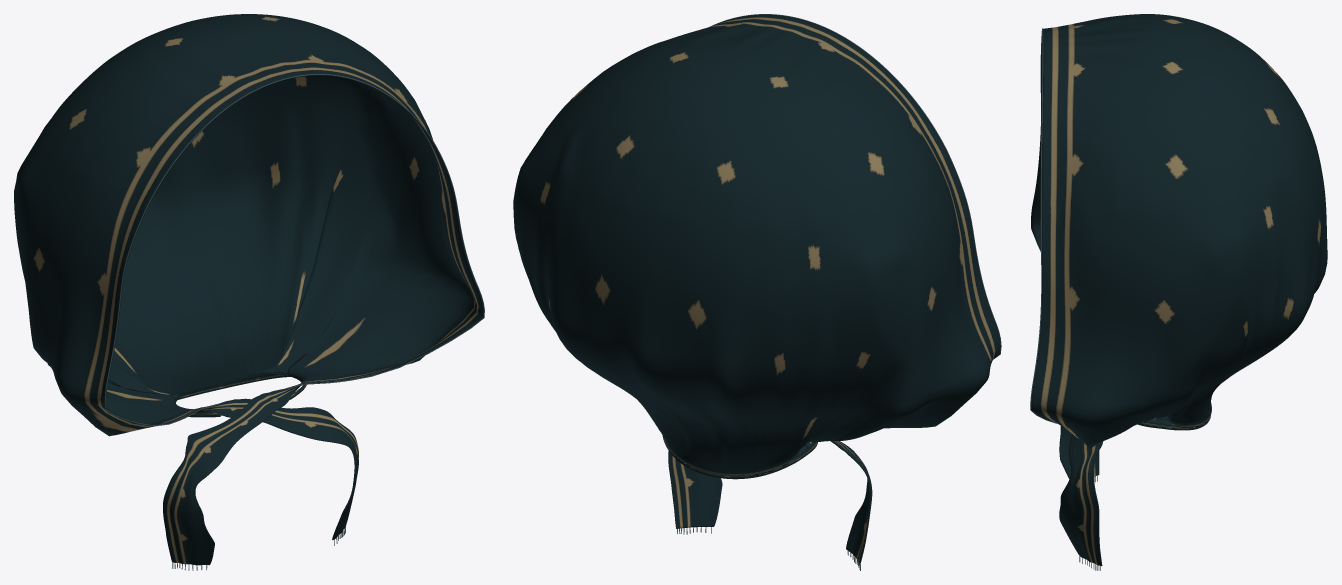
The model's file is Feminine-twin-braids-tank-pashmina249-headgear.glb.
3 views of the same model, side by side, from view 1: azimuth 30°, elevation 25°; view 2: azimuth 150°, elevation 25°; view 3: azimuth 270°, elevation 25° (orthographic). The views are drawn at different scales.
Visible parts, largest first — view 1: 226 headgear / Headwear / continuous woven pashmina239, 226 headgear / Headwear / face edge239; view 2: 226 headgear / Headwear / continuous woven pashmina239, 226 headgear / Headwear / face edge239; view 3: 226 headgear / Headwear / continuous woven pashmina239, 226 headgear / Headwear / face edge239.
Boxes of the visible parts, bbox=[...] form: 226 headgear / Headwear / continuous woven pashmina239: bbox=[14, 14, 483, 565]; 226 headgear / Headwear / face edge239: bbox=[104, 74, 484, 426]; 226 headgear / Headwear / continuous woven pashmina239: bbox=[513, 14, 1000, 564]; 226 headgear / Headwear / face edge239: bbox=[709, 14, 1001, 359]; 226 headgear / Headwear / continuous woven pashmina239: bbox=[1031, 14, 1327, 566]; 226 headgear / Headwear / face edge239: bbox=[1030, 28, 1056, 423].
Bounding box in the file's own units: 1.15 × 1.36 × 0.7437.
Materials: 3 (1 with a texture image).
